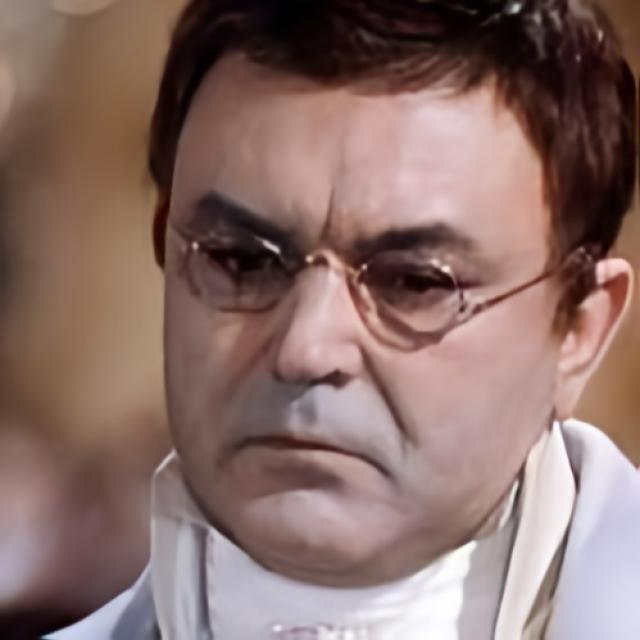anger: (158, 72, 556, 571)
